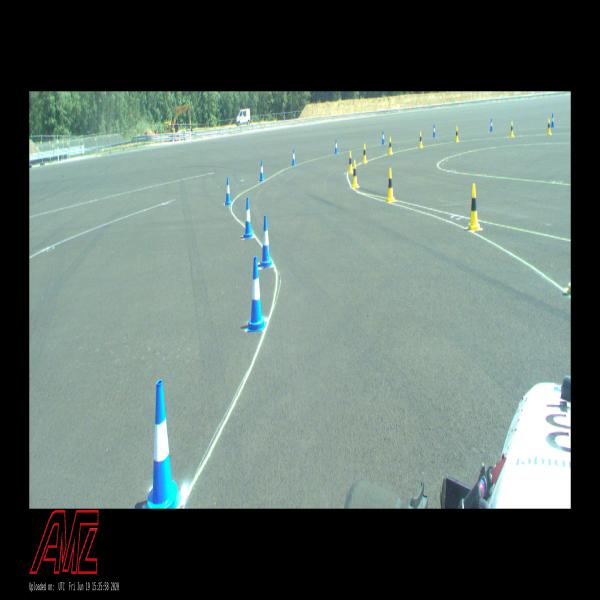blue_cone: (144, 379, 182, 508), (247, 256, 266, 331), (260, 215, 272, 268), (244, 197, 254, 239), (225, 177, 231, 205), (259, 160, 265, 182), (292, 149, 296, 166), (334, 139, 338, 154), (382, 131, 386, 145), (551, 113, 554, 128), (490, 118, 493, 132), (433, 124, 436, 138)
yellow_cone: (468, 183, 480, 230), (386, 168, 395, 202), (351, 160, 359, 188), (346, 152, 352, 173), (546, 118, 552, 135), (362, 144, 367, 163), (388, 137, 393, 155), (510, 121, 514, 137), (455, 126, 459, 142), (419, 132, 423, 147)
